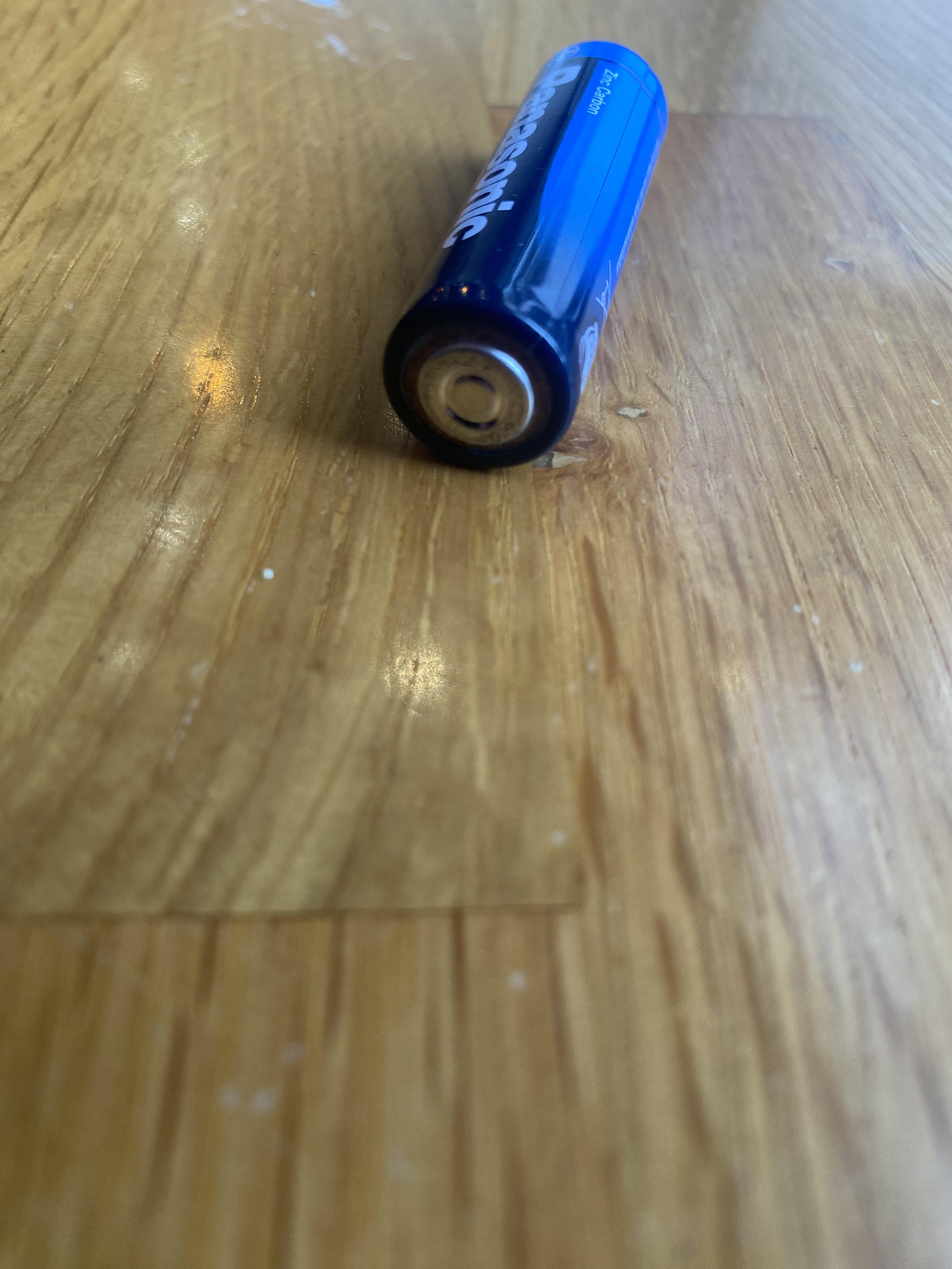AA: (380, 38, 669, 469)
